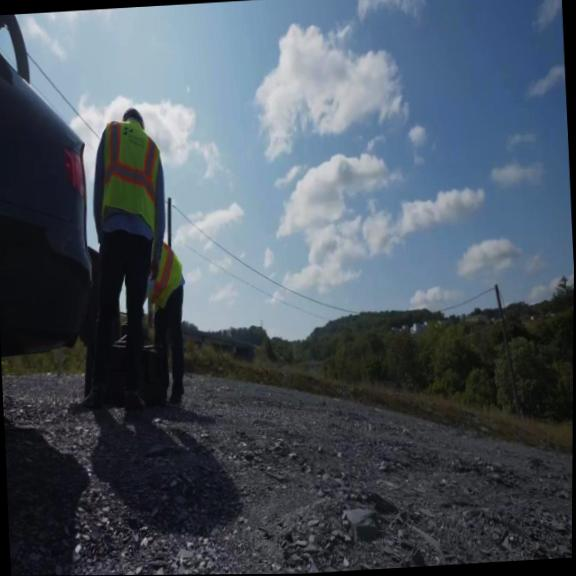safety_vest: (95, 109, 163, 233), (143, 241, 186, 312)
